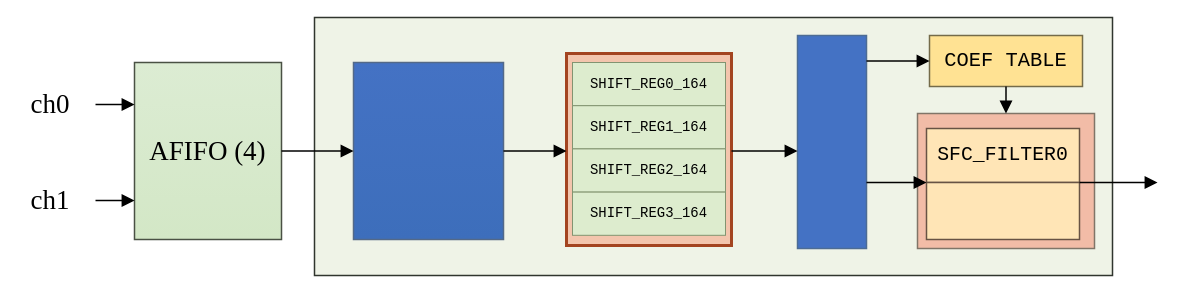
Some shapes in this 1186 by 294 pixel diagram are drawn without their labels. Here are the shapes that lost their labels. From the top down, the box of each, then its label:
(352, 61, 504, 240): SFC_CTRL
(796, 34, 867, 249): MUX
(925, 181, 1080, 240): SFC_FILTER1
